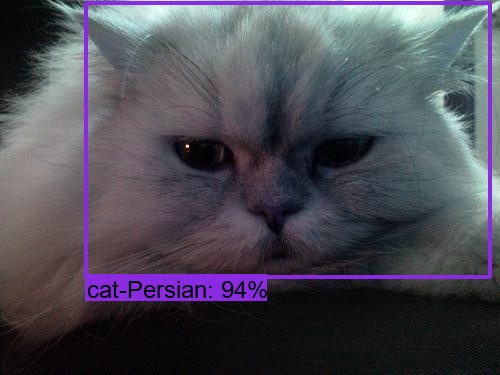cat-Persian: (73, 1, 493, 274)
